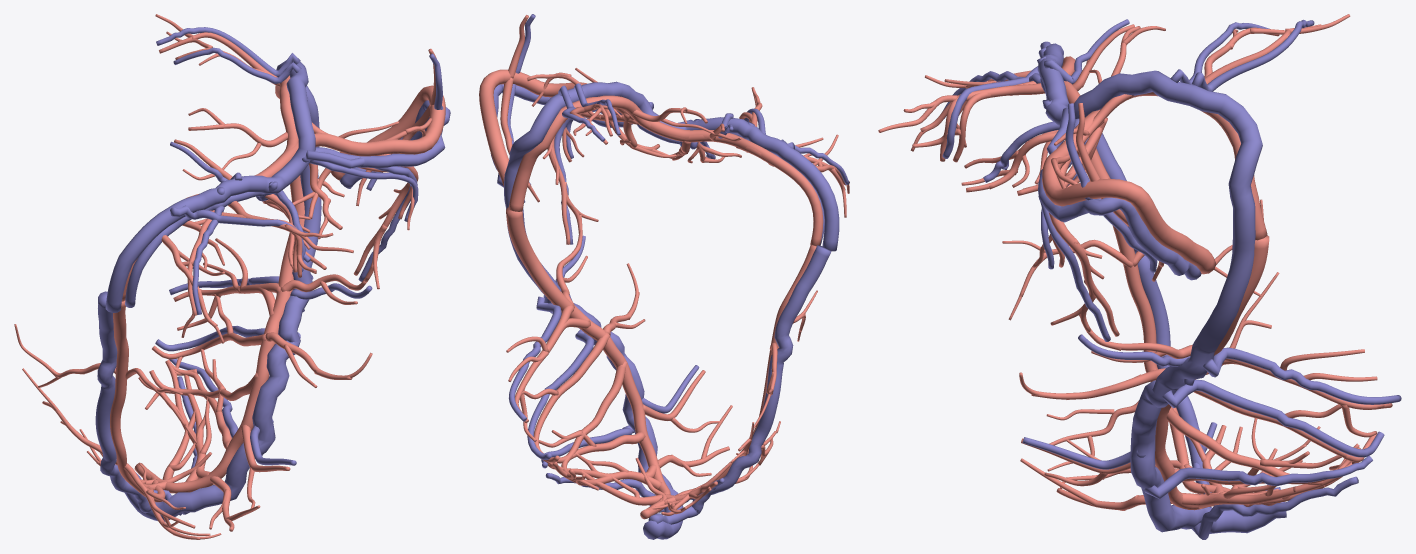
Rendered from vessels_21.glb.
3 renders of one model, left to right at view 1: azimuth 30°, elevation 25°; view 2: azimuth 150°, elevation 25°; view 3: azimuth 270°, elevation 25°, orthographic. The views are drawn at different scales.
Parts seen in each view (by area): view 1: Renderer Node; view 2: Renderer Node; view 3: Renderer Node.
Boxes of the visible parts, x1,y1,x2,y2 form: Renderer Node: [14, 14, 450, 539]; Renderer Node: [479, 14, 849, 539]; Renderer Node: [878, 14, 1401, 539].
Bounding box in the file's own units: 93.9 × 112 × 95.31.
